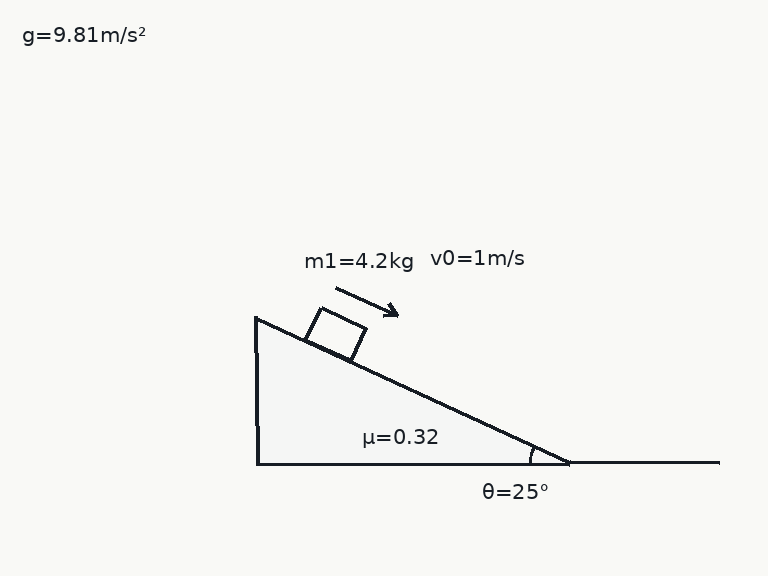block: (304, 305, 367, 362)
ramp: (254, 315, 572, 465)
